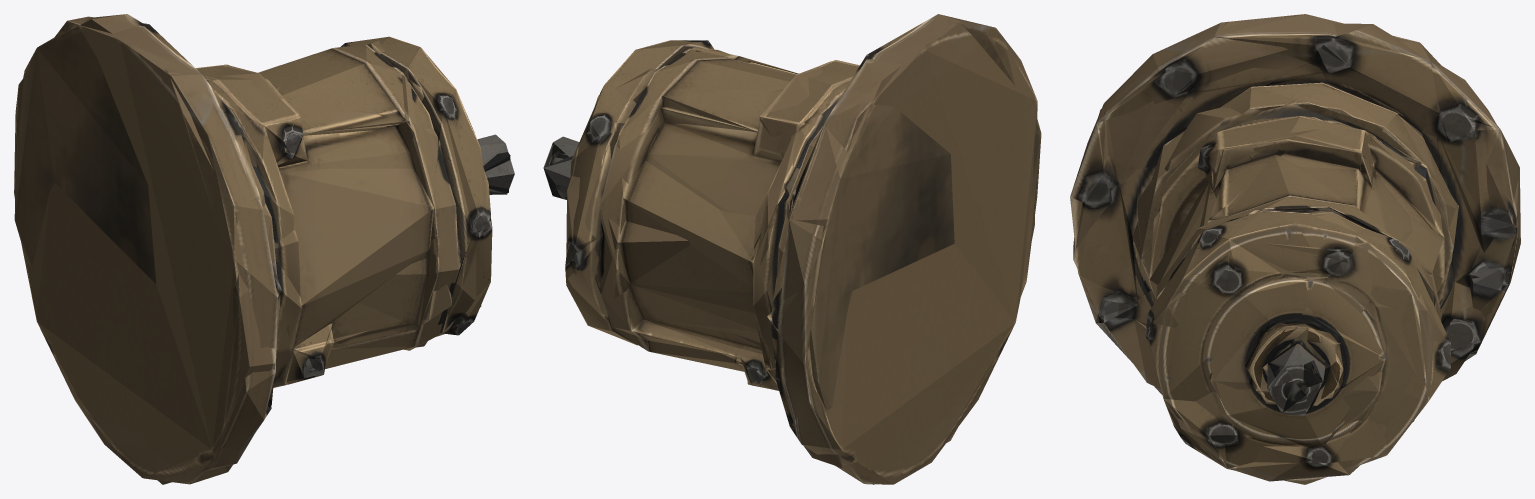
File: ventil-truba.glb
3 renders of one model, left to right at view 1: azimuth 30°, elevation 25°; view 2: azimuth 150°, elevation 25°; view 3: azimuth 270°, elevation 25°, orthographic. The views are drawn at different scales.
Visible parts, largest first — view 1: ventil-truba; view 2: ventil-truba; view 3: ventil-truba.
Part boxes in pixels (x1,y1,x2,y2): ventil-truba: (14,14,514,484); ventil-truba: (543,14,1041,484); ventil-truba: (1070,14,1520,484).
Size of the model in its own units: 0.35 by 0.38 by 0.38.
Materials: 1 (1 with a texture image).
